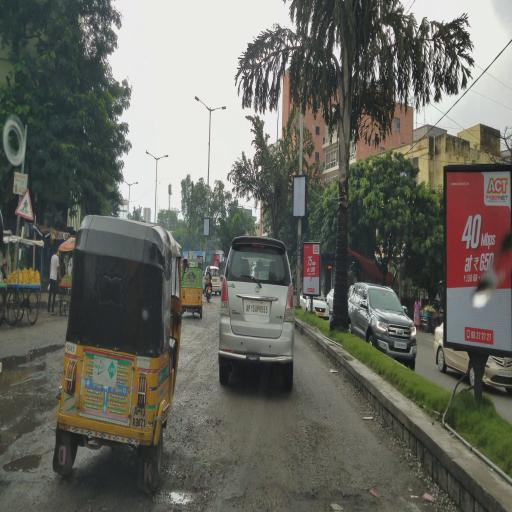street_light_0: (186, 86, 214, 120), (209, 85, 231, 121), (140, 141, 158, 163), (128, 175, 146, 194), (156, 146, 169, 168)
